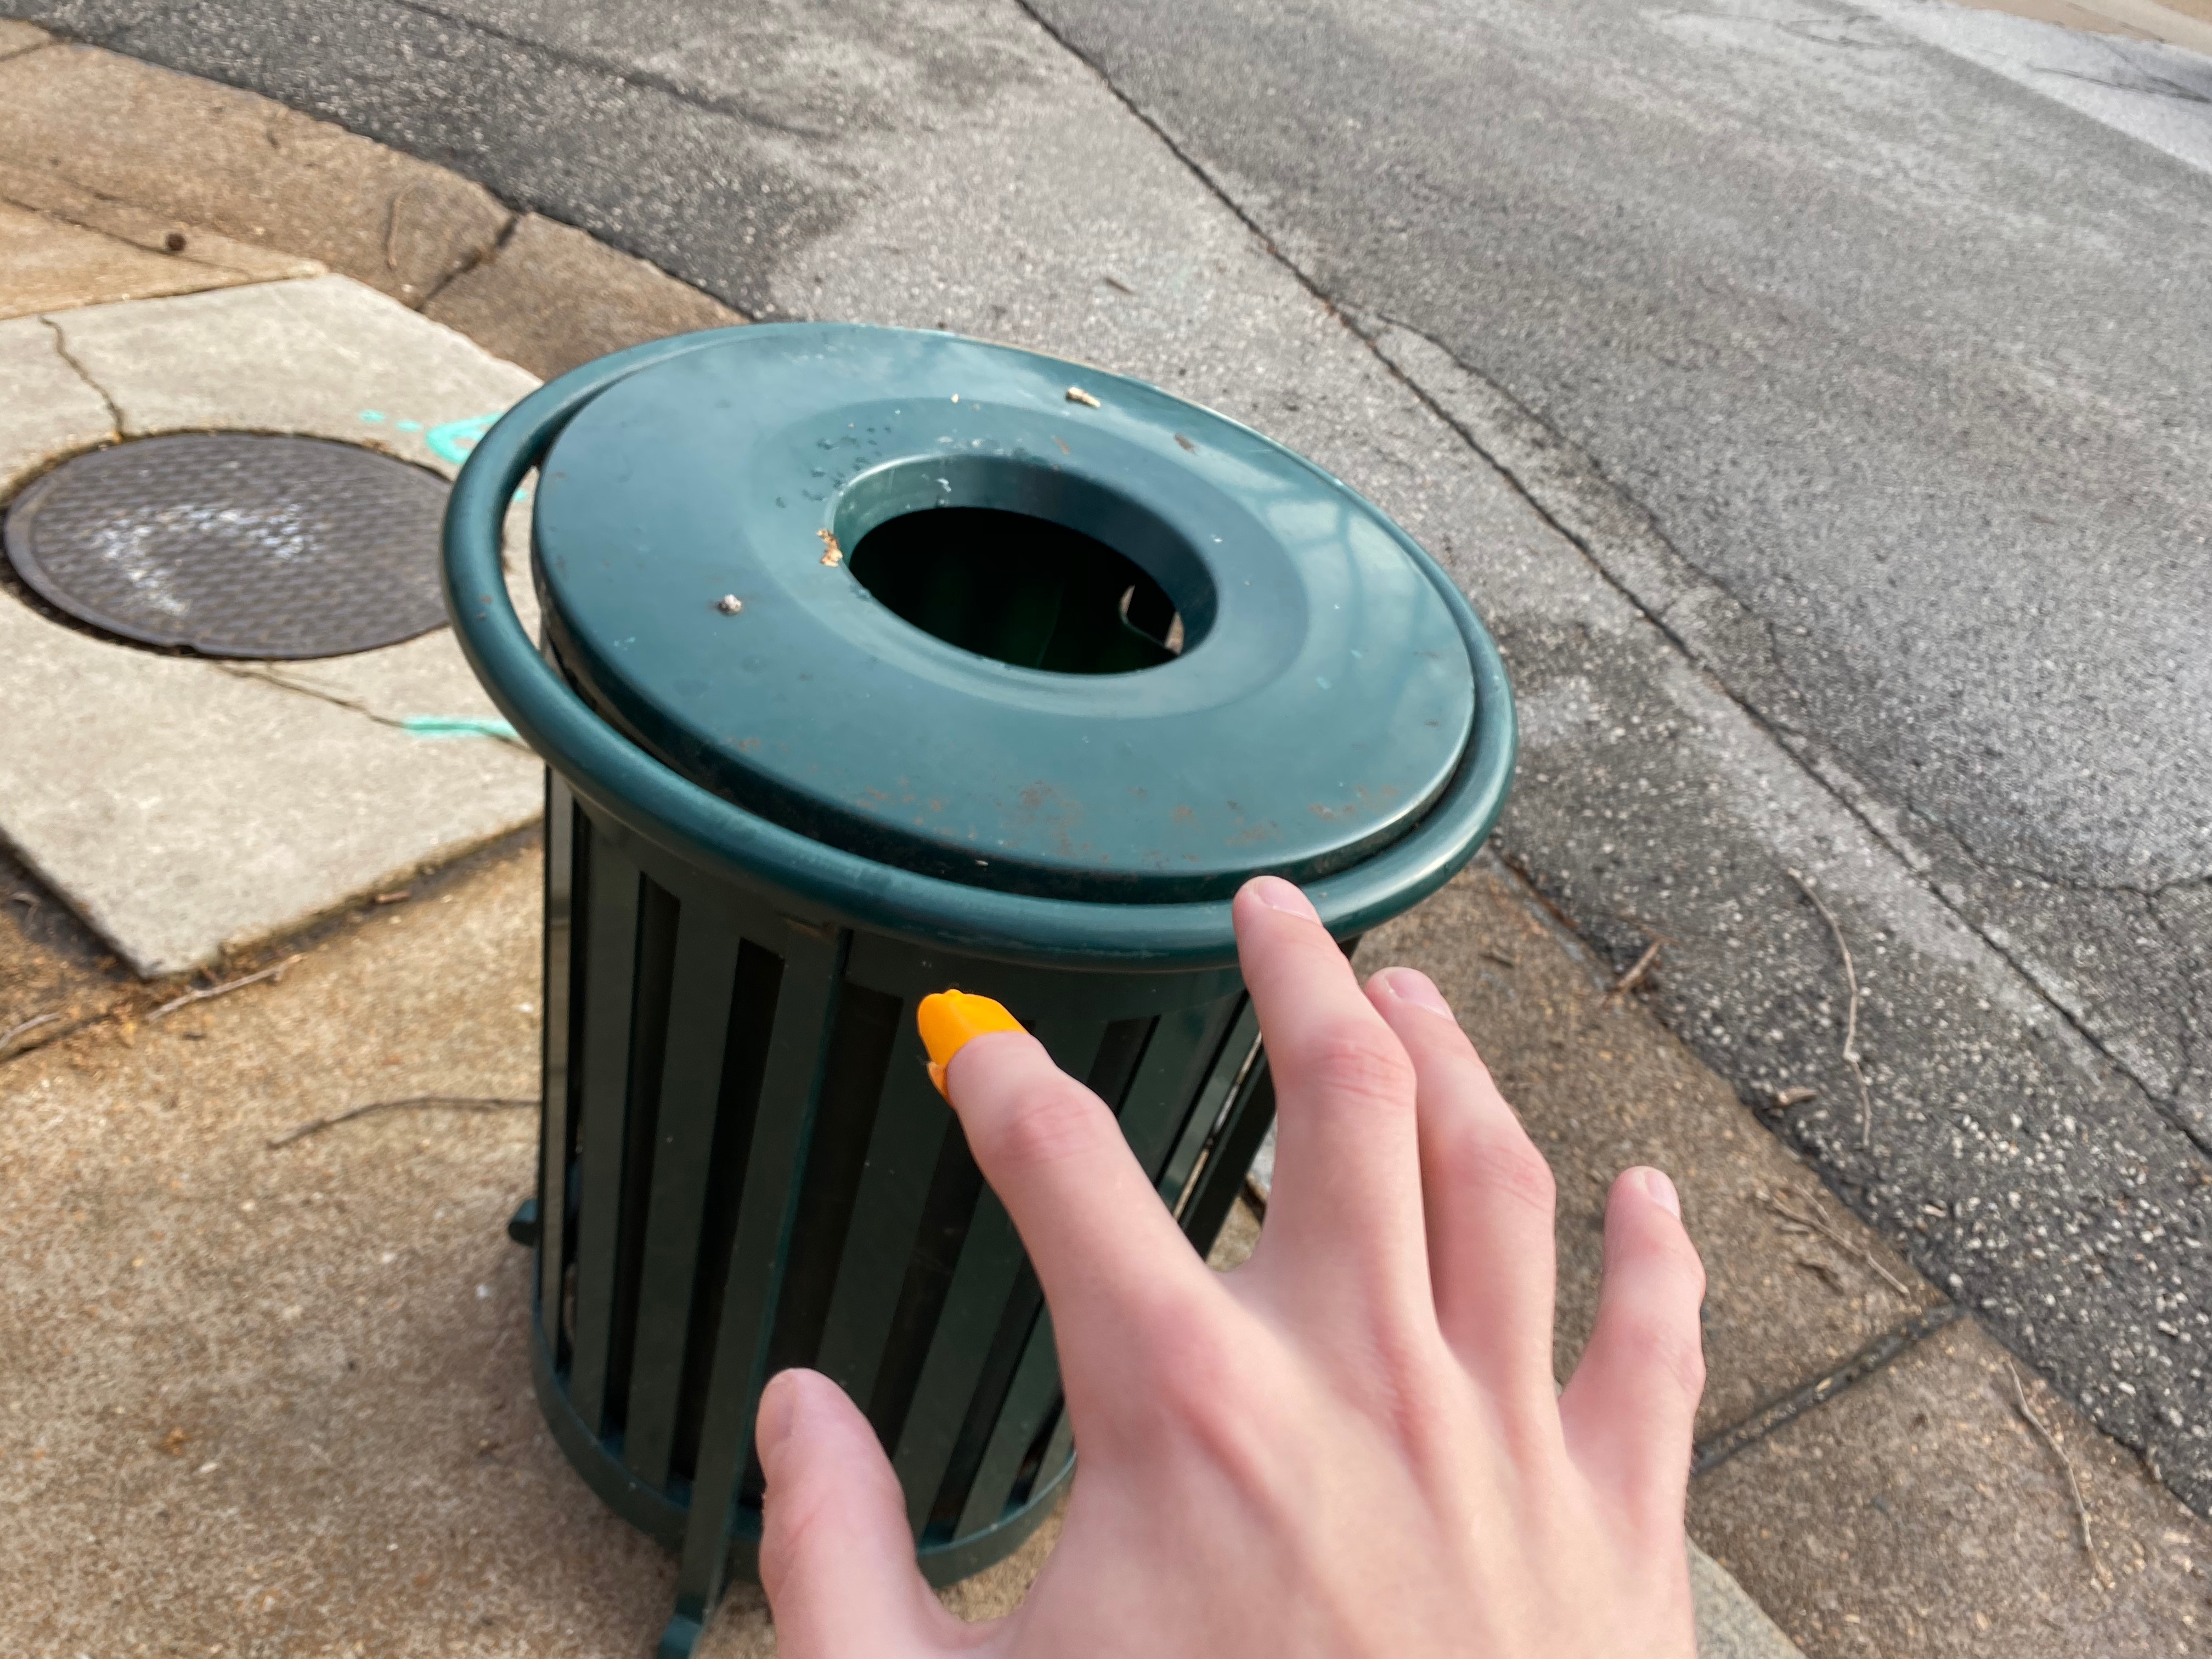fingertip: (878, 976, 1096, 1124)
